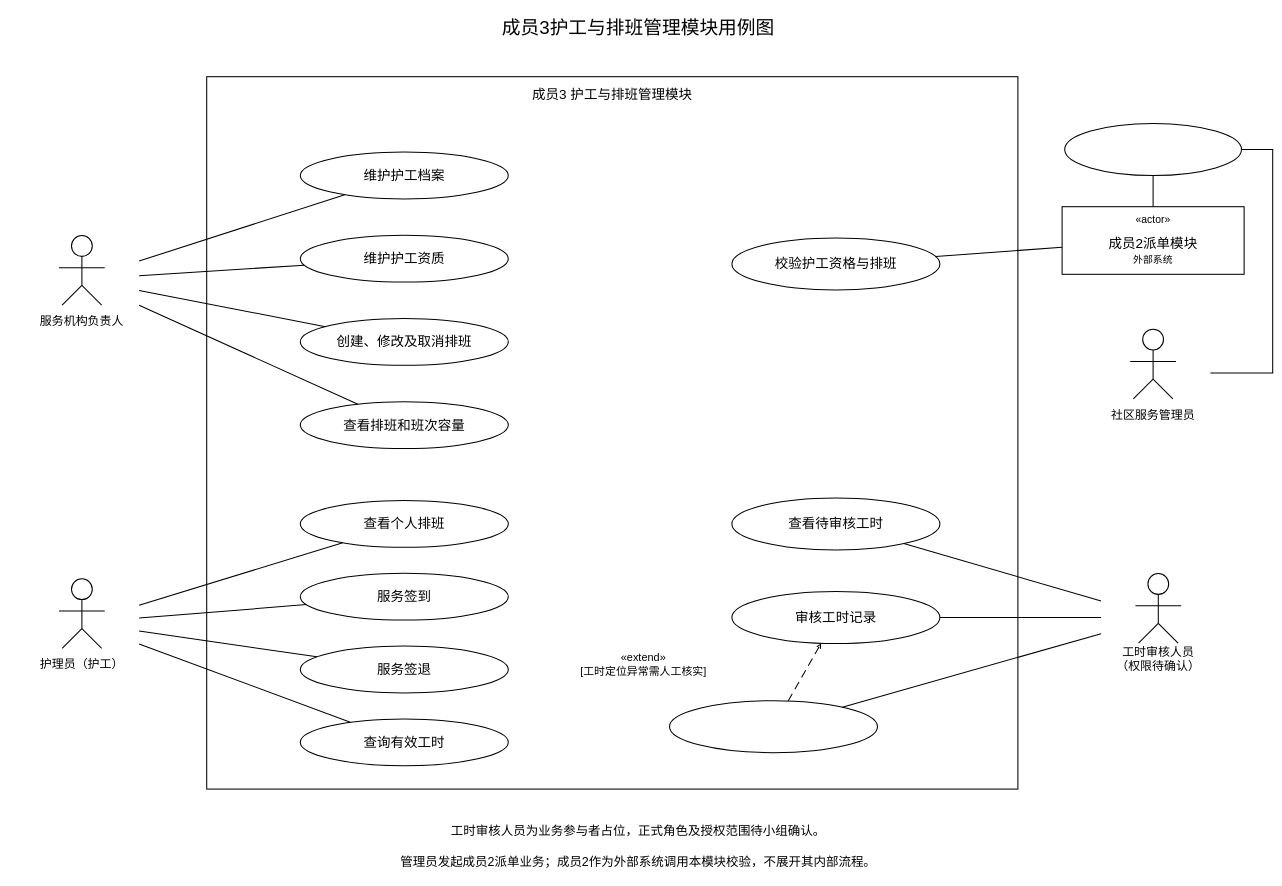
Image size: 1282x886. Some labels were removed from this diagram. The shapes that lost their labels are listed below. From the top down, each one's centre as x and y in pixels, then its label:
At point 1153,149: "发起派单 （成员2业务）".
At point 773,726: "异常工时人工复核".
